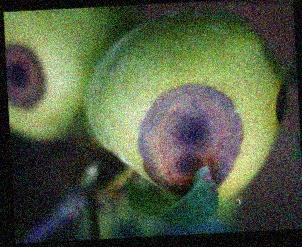rotten apple: (89, 9, 290, 200), (6, 8, 125, 139)
